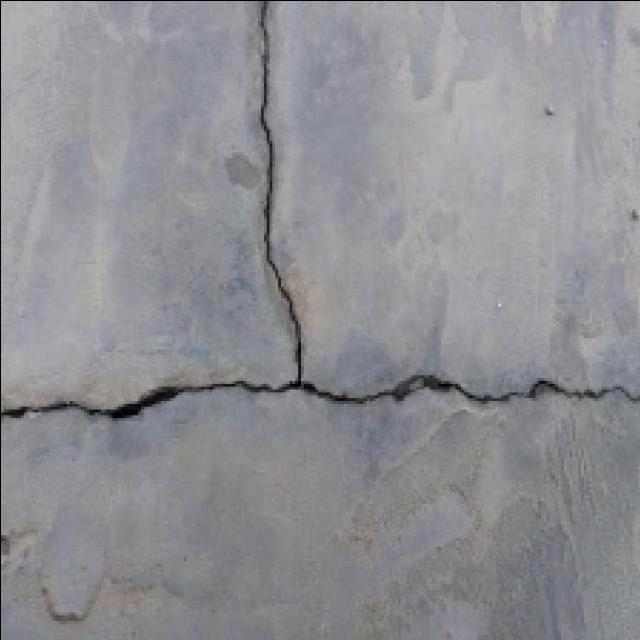SurfaceCrack: (228, 0, 322, 414)
